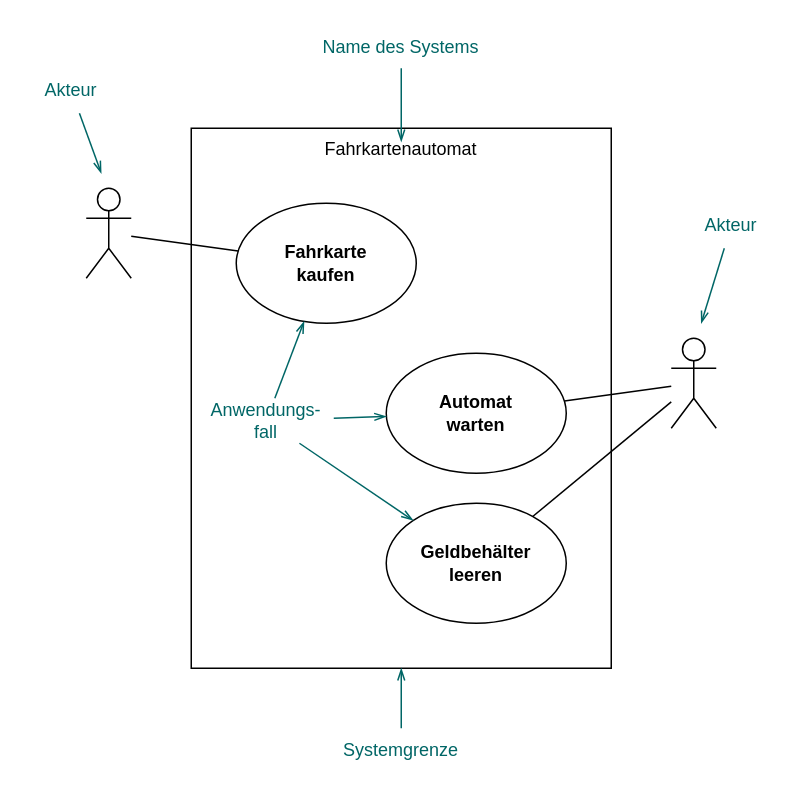
This 801x798 diagram has some shape labels left out. Each missing label, with the centre of its shape:
"Kunde" goes at [108,232].
"Wartungs- techniker" goes at [693,382].
